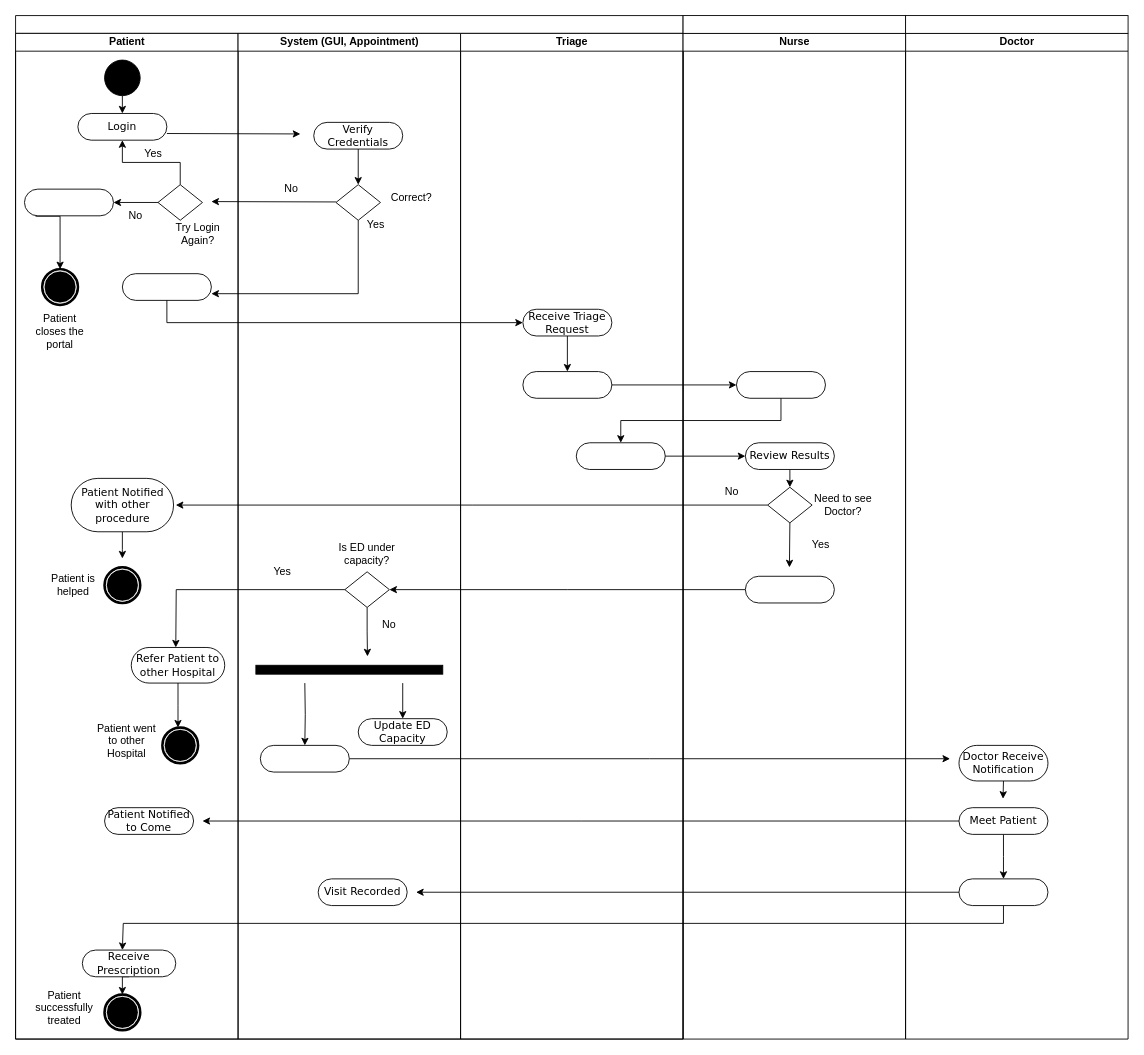
This 1144x1055 diagram has some shape labels left out. Each missing label, with the centre of its shape:
"Appoinment Booked" belongs at (304,758).
"Book Appointment" belongs at (789,589).
"Close Login" belongs at (68,202).
"Conduct Triage" belongs at (620,455).
"Notify Nurse" belongs at (567,384).
"Prescribe Medication" belongs at (1003,892).
"Receive Notification" belongs at (780,384).
"Register for Triage" belongs at (166,286).
